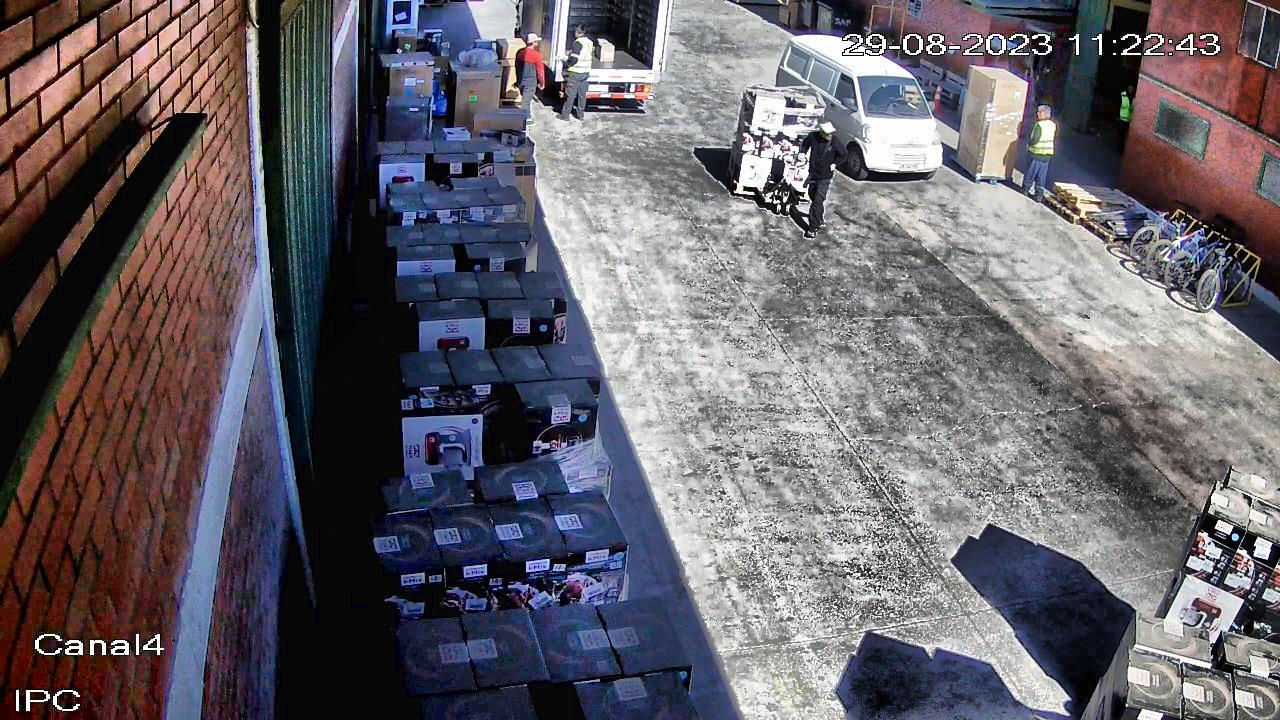con-casco: (811, 120, 840, 142), (523, 31, 543, 48)
con-chaleco: (1024, 117, 1058, 159), (562, 36, 594, 77), (1116, 91, 1140, 127)
persona: (787, 117, 849, 243), (1012, 102, 1062, 206), (553, 20, 598, 128), (506, 30, 551, 130), (1103, 82, 1142, 161)
sin-casco: (570, 22, 590, 38), (1036, 106, 1051, 121)
sin-chaleco: (805, 129, 841, 184), (513, 47, 545, 95)
